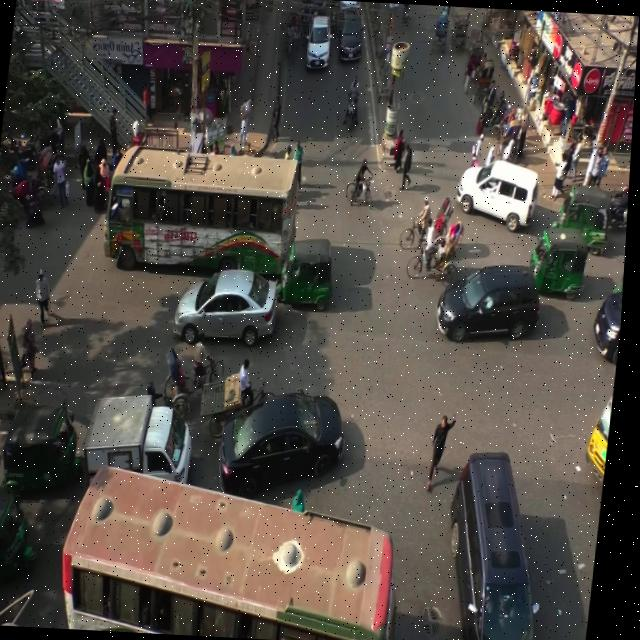cng: (8, 389, 96, 486), (277, 217, 344, 323), (0, 489, 67, 590), (552, 179, 621, 264), (523, 221, 593, 303)
rikshaw: (156, 332, 234, 416), (407, 212, 471, 296), (394, 190, 463, 260), (470, 52, 501, 116), (451, 10, 475, 74), (428, 7, 450, 61)
